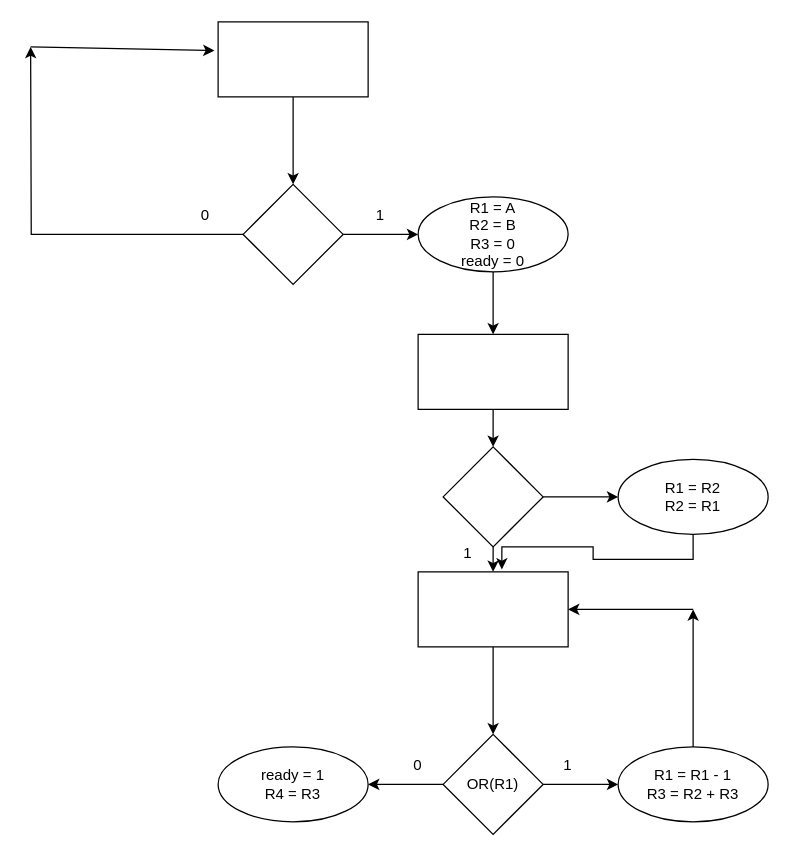
The diagram is 790 pixels wide and 856 high, and some of its shapes have lost their labels. Each missing label, with the centre of its shape:
"R1 < R2" belongs at (492,496).
"start" belongs at (292,233).
